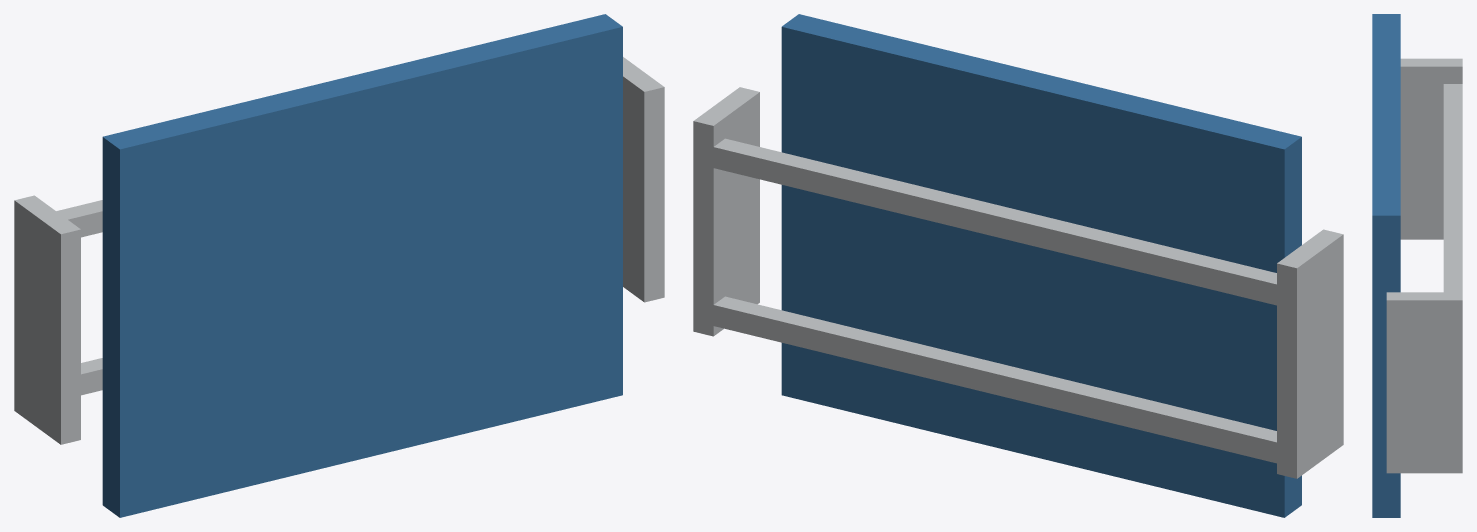
The model's file is towel-rail.glb.
3 views of the same model, side by side, from view 1: azimuth 30°, elevation 25°; view 2: azimuth 150°, elevation 25°; view 3: azimuth 270°, elevation 25° (orthographic). The views are drawn at different scales.
Parts seen in each view (by area): view 1: towel-rail; view 2: towel-rail; view 3: towel-rail.
Part boxes in pixels (x1,y1,x2,y2): towel-rail: (14, 14, 664, 517); towel-rail: (693, 14, 1343, 517); towel-rail: (1372, 14, 1462, 517).
Size of the model in its own units: 0.6 by 0.35 by 0.095.
